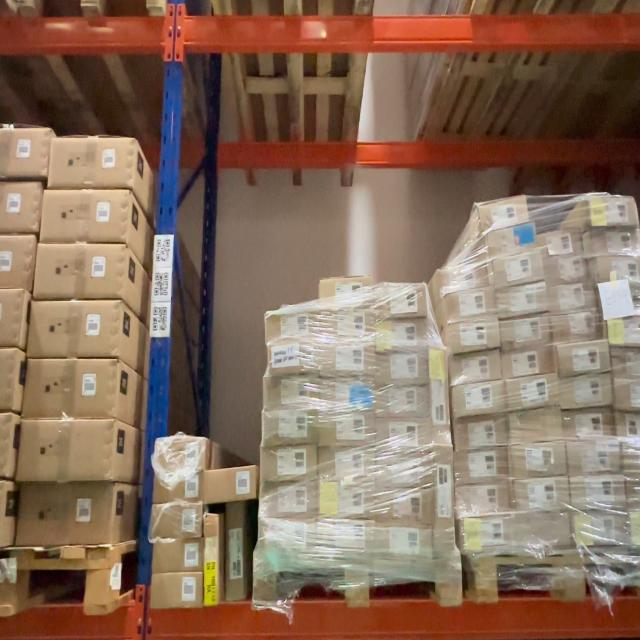box: (15, 421, 116, 482), (15, 485, 113, 546), (21, 359, 118, 419), (27, 301, 121, 358), (33, 245, 128, 301), (40, 190, 130, 243), (47, 138, 135, 189), (435, 448, 456, 559), (513, 476, 573, 514), (516, 513, 574, 552), (460, 513, 518, 552), (505, 373, 560, 414), (486, 222, 539, 264), (454, 479, 511, 518), (262, 408, 318, 447), (317, 480, 376, 517), (444, 282, 497, 323), (573, 510, 629, 548), (570, 475, 627, 512), (261, 445, 318, 482), (225, 503, 246, 603), (509, 406, 564, 444), (455, 448, 510, 486), (262, 372, 318, 409), (491, 249, 544, 288), (451, 381, 505, 419), (318, 275, 375, 311), (511, 442, 566, 479), (498, 316, 551, 354), (375, 351, 428, 389), (318, 444, 377, 478), (455, 414, 509, 451), (447, 349, 501, 386), (318, 376, 375, 411), (566, 438, 621, 474), (447, 316, 499, 354), (496, 282, 549, 319), (376, 492, 432, 527), (429, 346, 449, 444), (317, 519, 376, 552), (259, 482, 318, 515), (558, 374, 612, 410), (556, 339, 610, 375), (376, 527, 432, 561), (319, 306, 375, 340), (317, 342, 376, 374), (257, 517, 316, 549), (478, 196, 530, 232), (203, 466, 255, 502), (151, 571, 203, 607), (376, 456, 431, 490), (155, 438, 205, 475), (263, 306, 319, 339), (501, 347, 555, 381), (374, 284, 428, 318), (151, 502, 202, 538), (153, 538, 204, 574), (317, 414, 376, 445), (265, 338, 317, 373), (550, 309, 601, 344), (563, 408, 617, 441), (376, 386, 428, 419), (375, 418, 430, 449), (203, 514, 221, 606), (547, 282, 597, 314), (533, 226, 583, 258), (440, 264, 490, 296), (154, 471, 204, 503), (376, 320, 429, 349), (587, 196, 640, 224), (586, 228, 640, 255), (543, 254, 590, 281)
